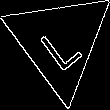L_NW: (33, 12, 86, 72)
